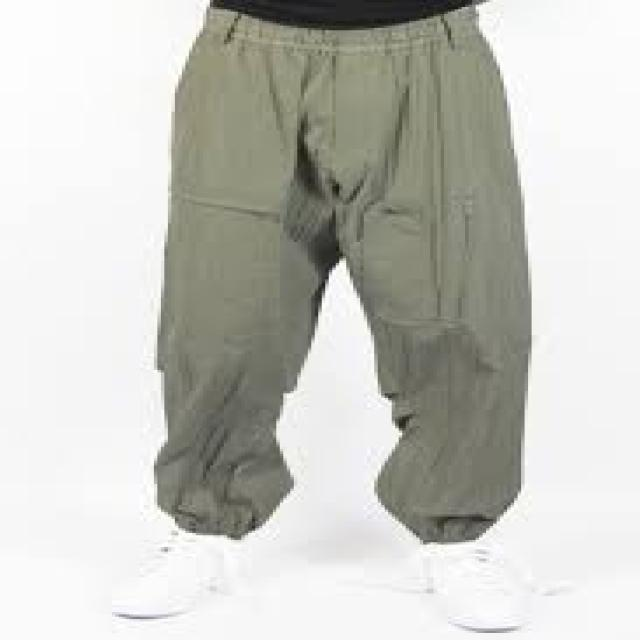pants: (153, 6, 532, 540)
